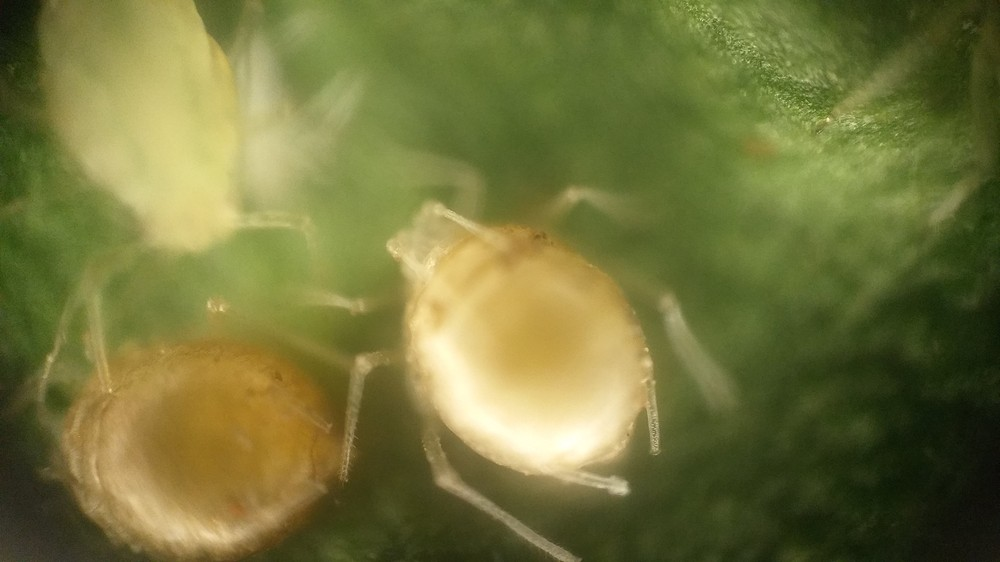Pulgon: (327, 168, 748, 560), (4, 257, 415, 562), (9, 5, 363, 335)
